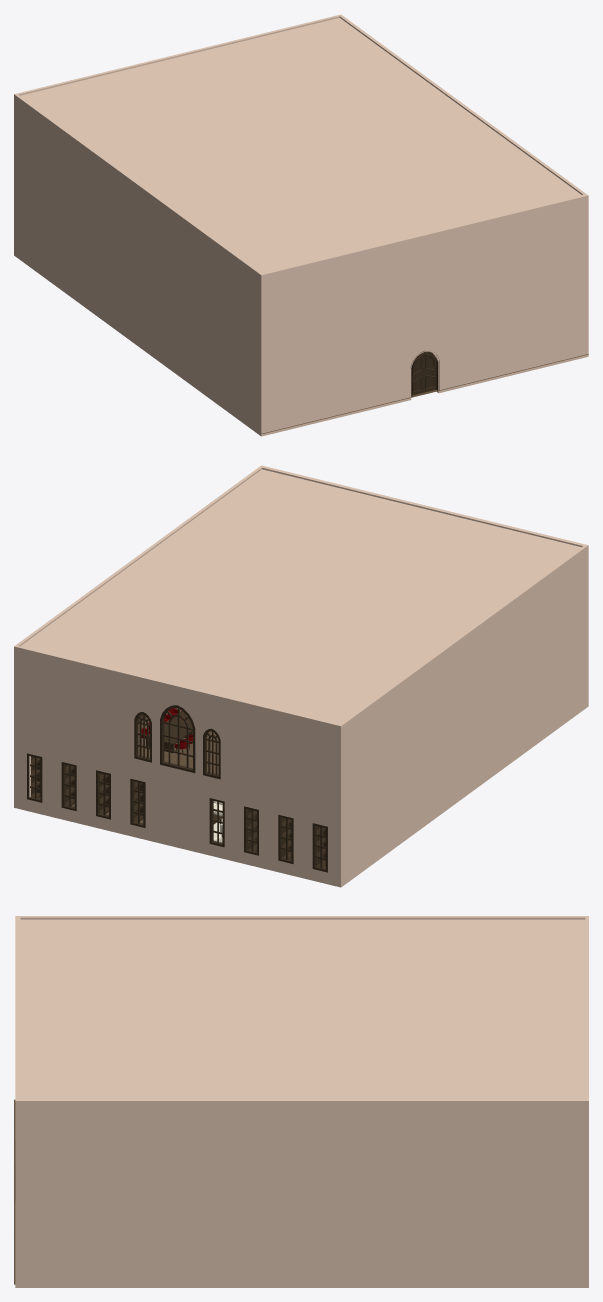
File: library_main.glb
3 renders of one model, top to bottom at view 1: azimuth 30°, elevation 25°; view 2: azimuth 150°, elevation 25°; view 3: azimuth 270°, elevation 25°, orthographic. The views are drawn at different scales.
Visible parts, largest first — view 1: ceiling, bookshelves; view 2: ceiling, bookshelves, rug.001; view 3: ceiling.
Boxes of the visible parts, x1,y1,x2,y2 form: ceiling: [14, 14, 588, 436]; bookshelves: [410, 350, 439, 396]; ceiling: [14, 465, 588, 887]; bookshelves: [27, 705, 327, 872]; rug.001: [141, 708, 222, 842]; ceiling: [14, 916, 588, 1287].
Size of the model in its own units: 26.81 by 12.63 by 35.22.
4 materials, 4 textured.
